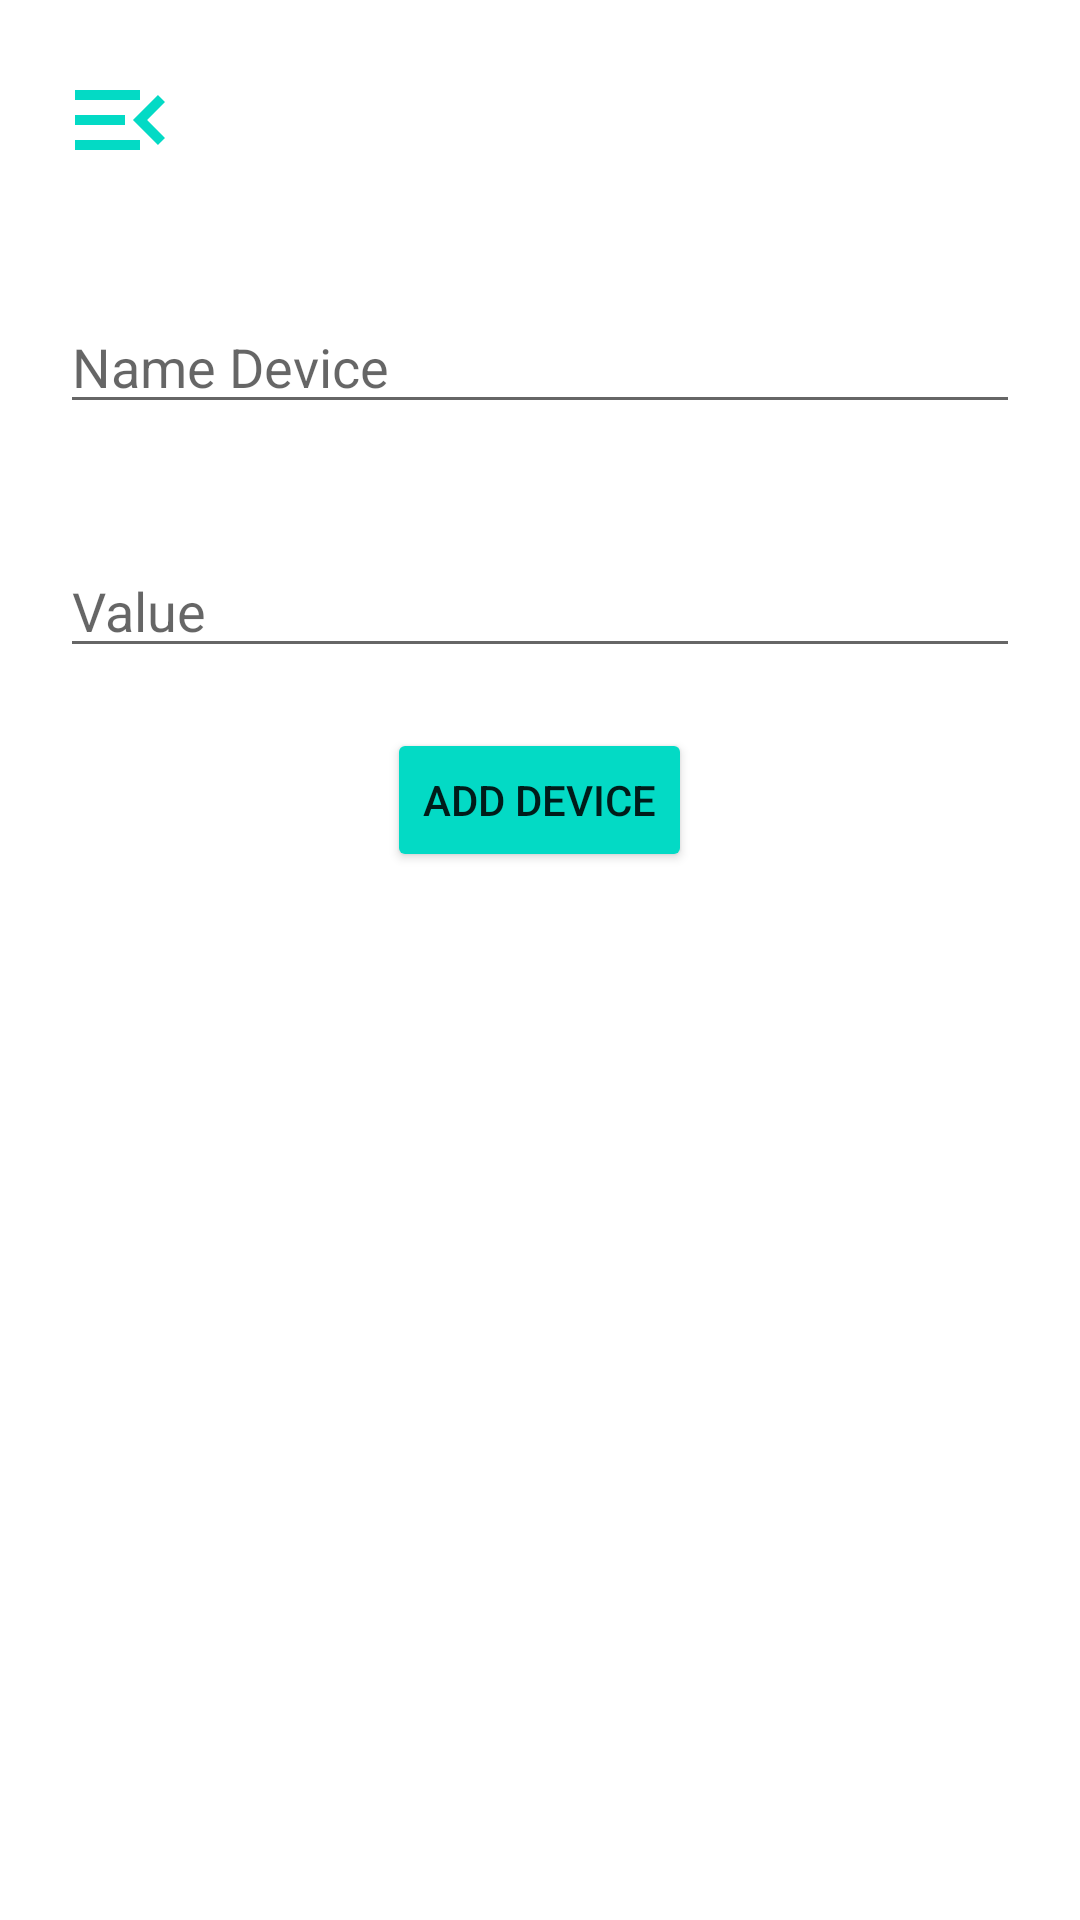

Named icons in this screenshot (1080px×1920px) and their bounding boxes, (x1, y1, x2, y2):
menu: (75, 90, 165, 150)
